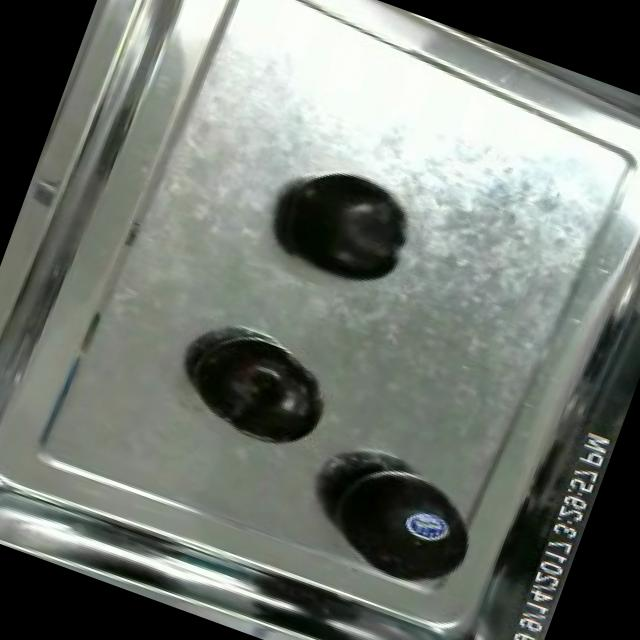Fruit: (256, 149, 428, 303), (175, 324, 338, 460), (388, 494, 465, 560)
